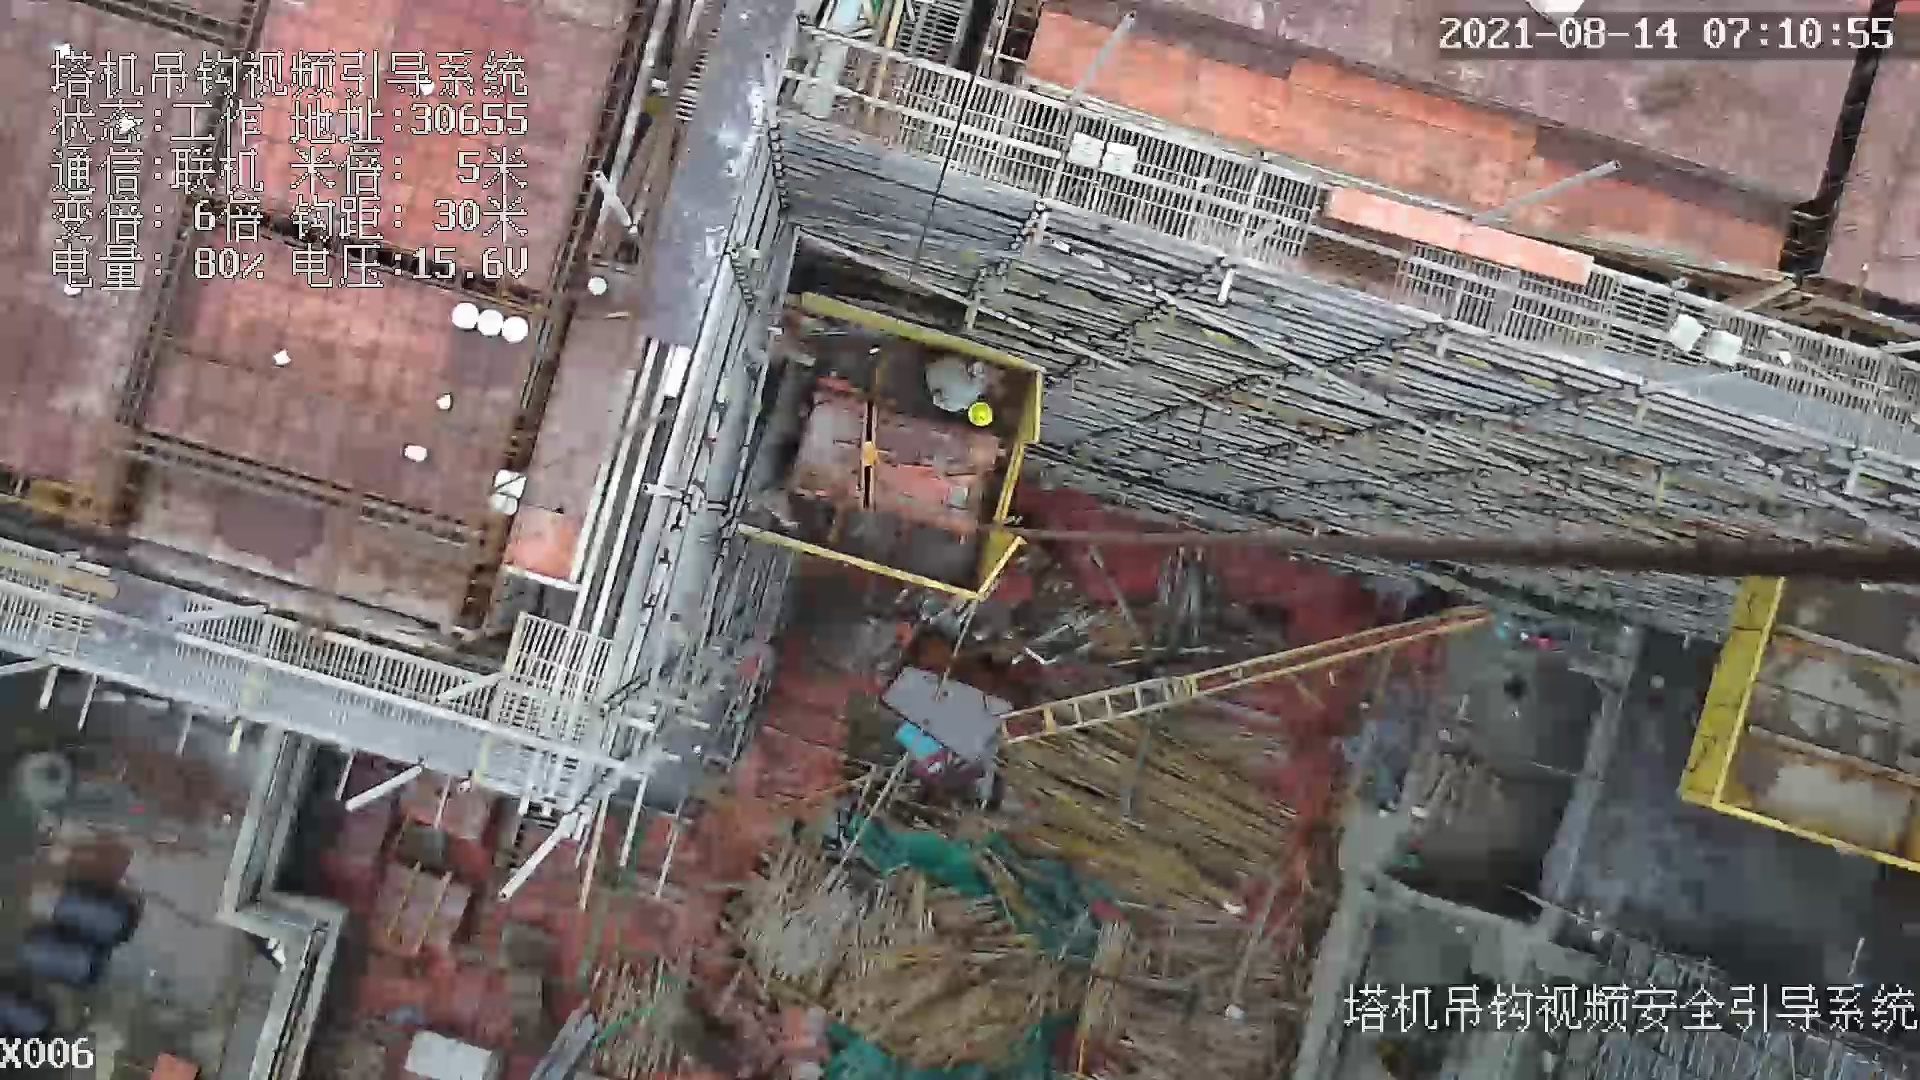helmet: (968, 401, 994, 428)
hook: (850, 396, 882, 512)
person: (928, 353, 996, 432)
